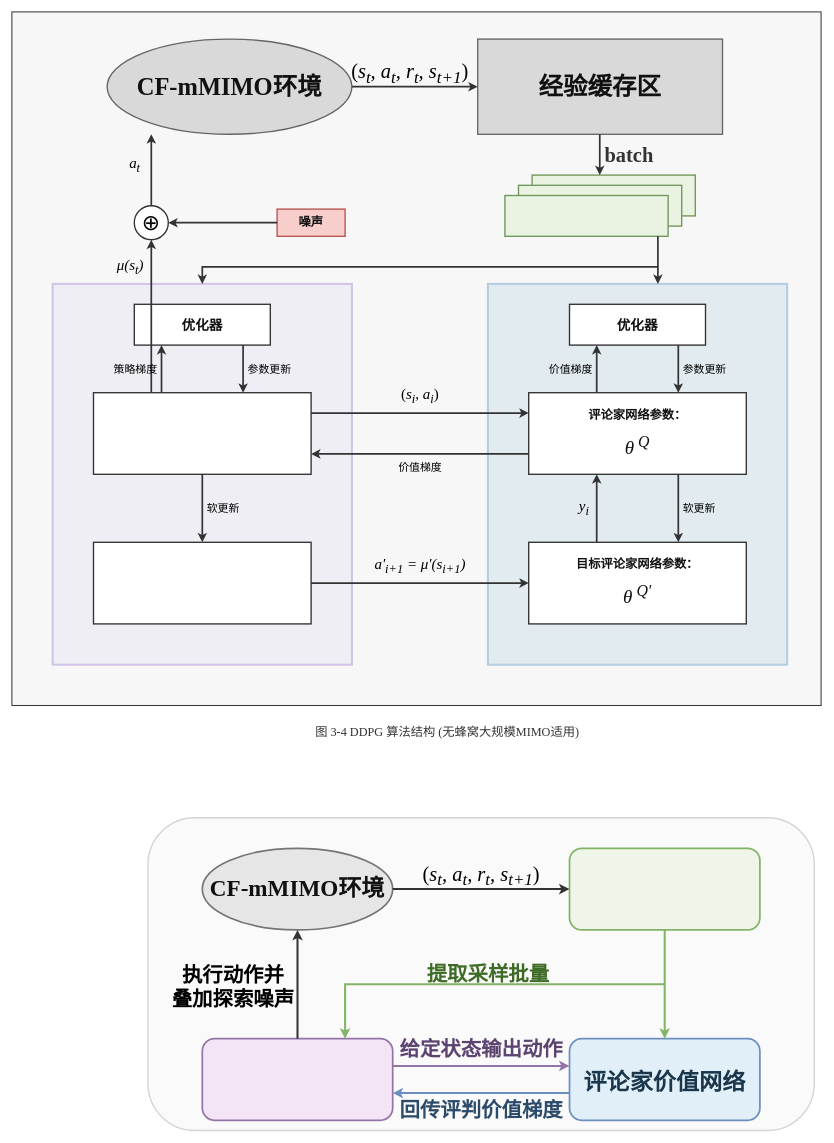
This 834x1143 diagram has some shape labels left out. The box of each missing label's shape, as (x1, y1, x2, y2) in pixels:
( s i , a i , r i , s i+1 ): (504, 194, 668, 237)
演员策略网络: (201, 1038, 393, 1121)
演员网络参数： θ μ: (92, 392, 311, 475)
目标演员网络参数： θ μ': (92, 541, 311, 624)
经验回放缓存区: (568, 847, 760, 930)
